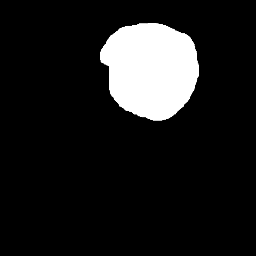mass: (106, 23, 194, 112)
